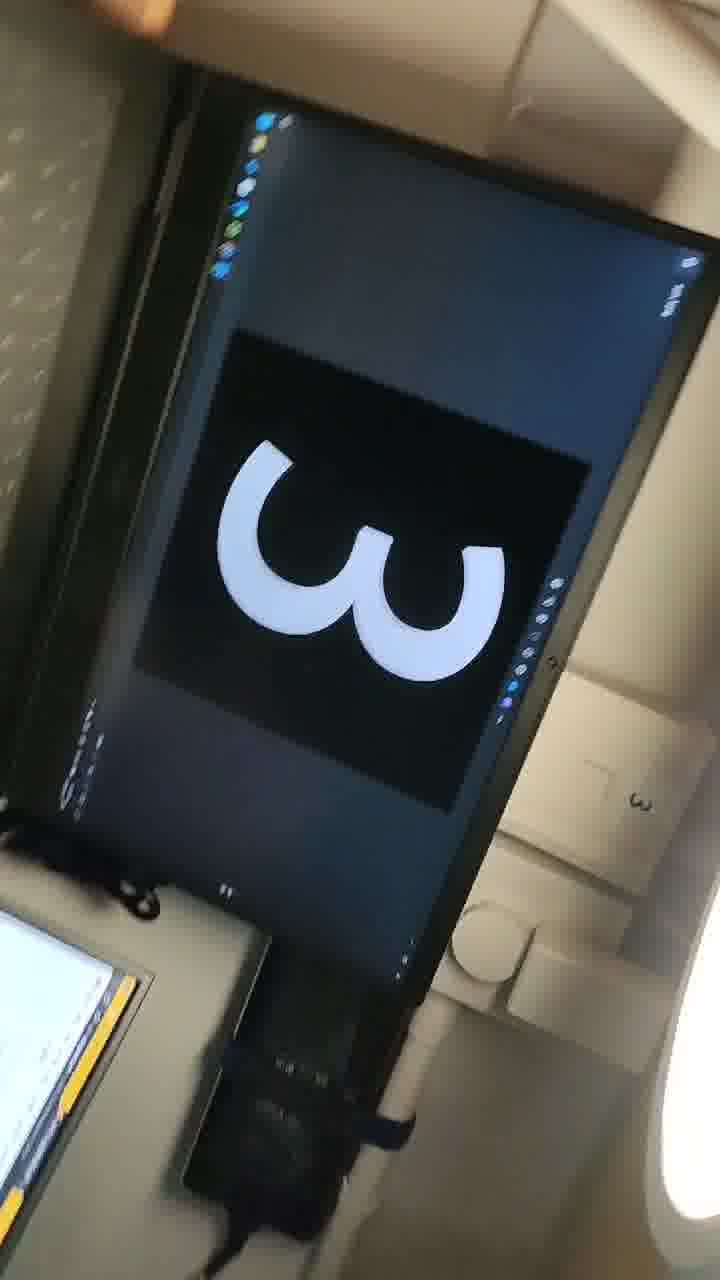three: (136, 384, 586, 746)
